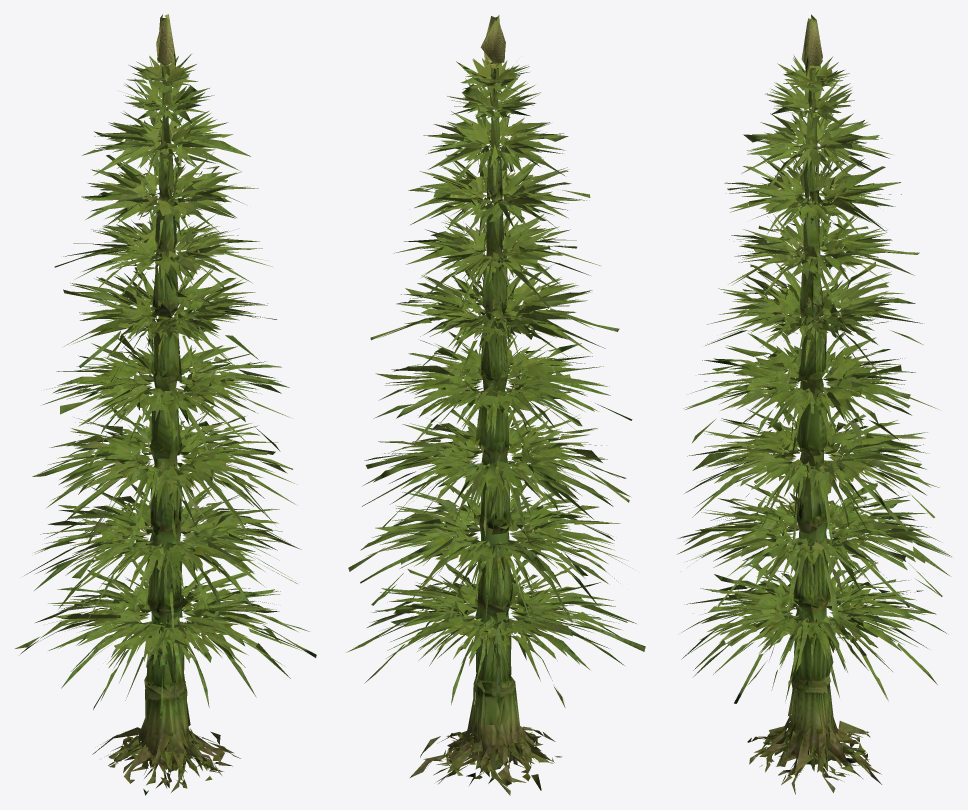
The model's file is calamites.glb.
3 views of the same model, side by side, from view 1: azimuth 30°, elevation 25°; view 2: azimuth 150°, elevation 25°; view 3: azimuth 270°, elevation 25° (orthographic).
Visible parts, largest first — view 1: Mesh_0; view 2: Mesh_0; view 3: Mesh_0.
Part boxes in pixels (left/top/right/bottom): Mesh_0: left=15, top=14, right=316, bottom=795; Mesh_0: left=346, top=15, right=645, bottom=795; Mesh_0: left=677, top=14, right=951, bottom=794.
Size of the model in its own units: 0.3436 by 1.01 by 0.3407.
Materials: 1 (1 with a texture image).
